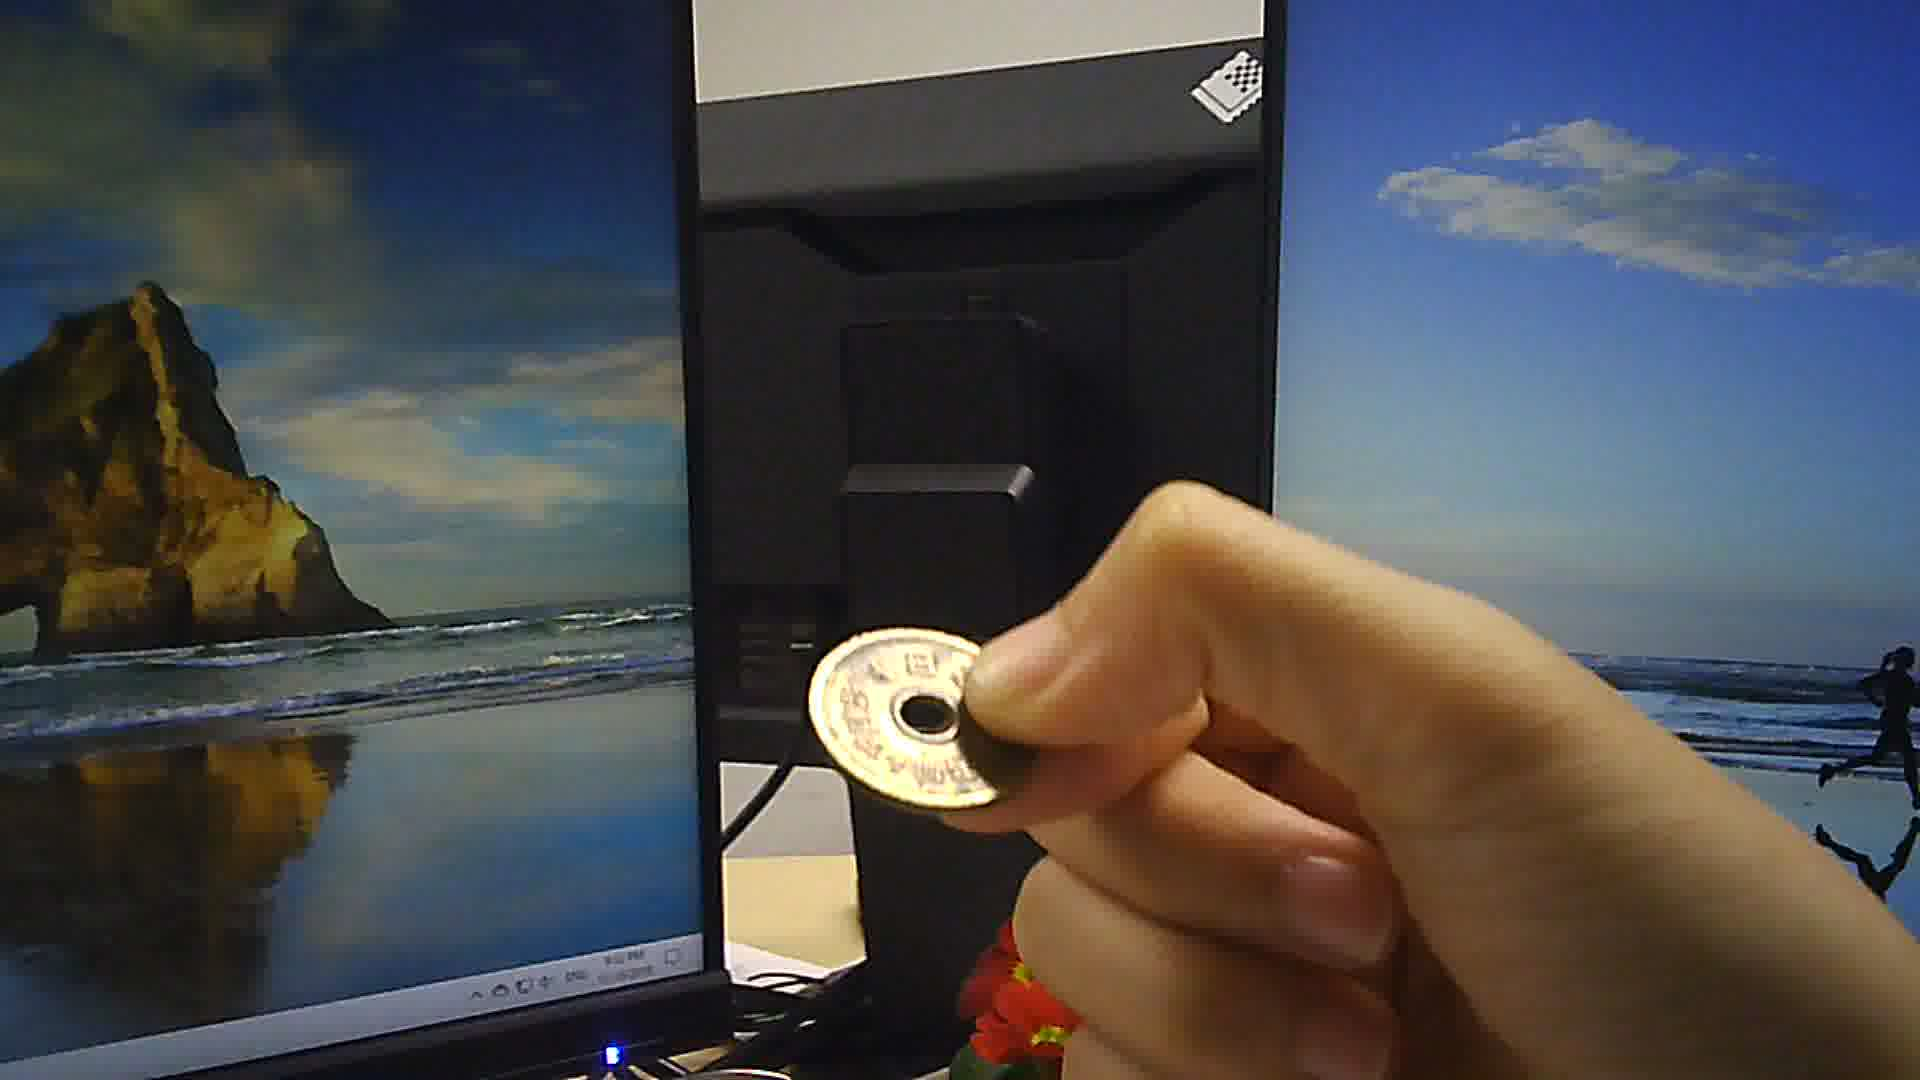5 Yen: (807, 622, 1054, 807)
